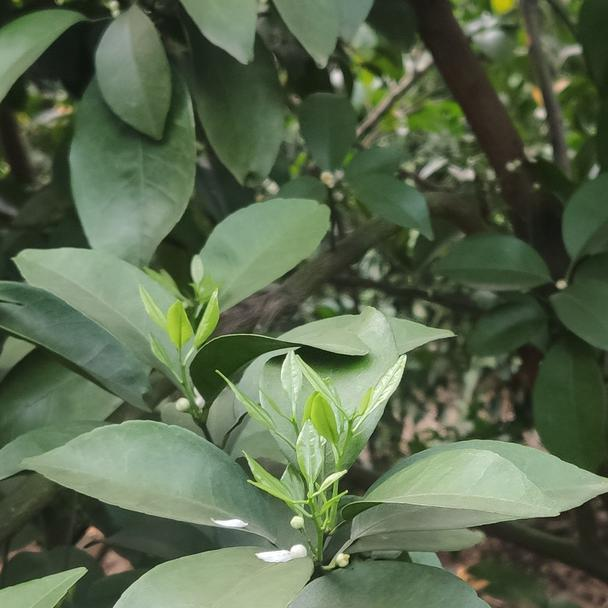shoot: (305, 354, 406, 506), (138, 293, 222, 399), (272, 430, 342, 550)
